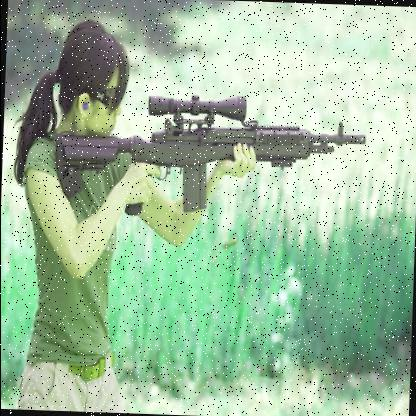rifle: (50, 83, 370, 220)
